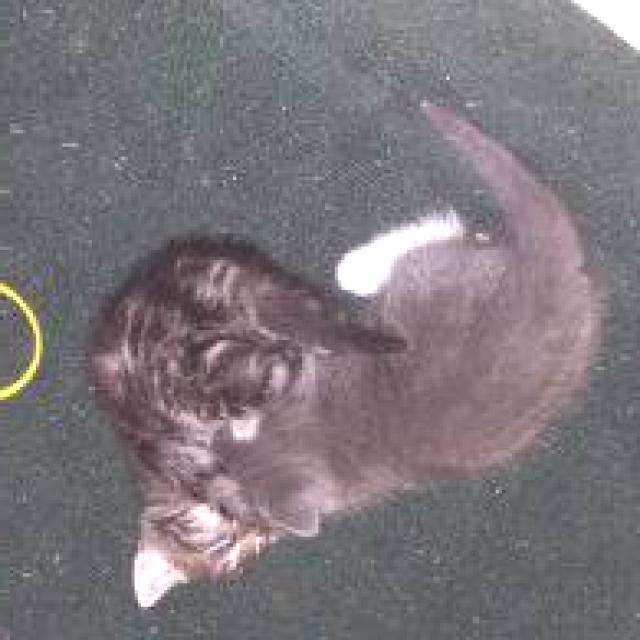Kucing: (221, 229, 607, 568), (106, 266, 215, 608)
